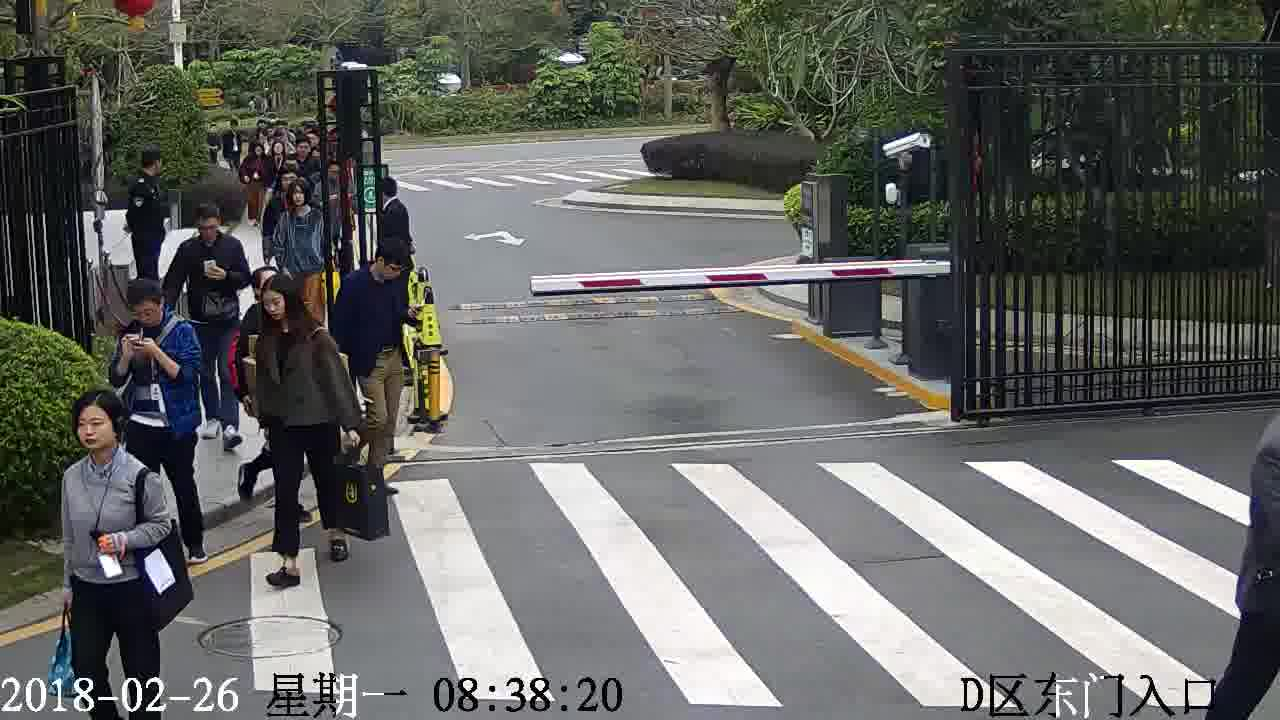face: (73, 407, 116, 450), (257, 287, 290, 322)
person: (58, 385, 157, 494), (244, 272, 336, 350), (116, 276, 195, 351), (343, 240, 417, 296), (181, 202, 243, 258), (273, 177, 325, 227), (129, 146, 166, 195), (318, 161, 360, 197), (377, 174, 410, 218), (285, 134, 321, 173), (259, 136, 291, 172), (240, 137, 267, 163), (258, 124, 281, 147), (223, 116, 241, 137)
